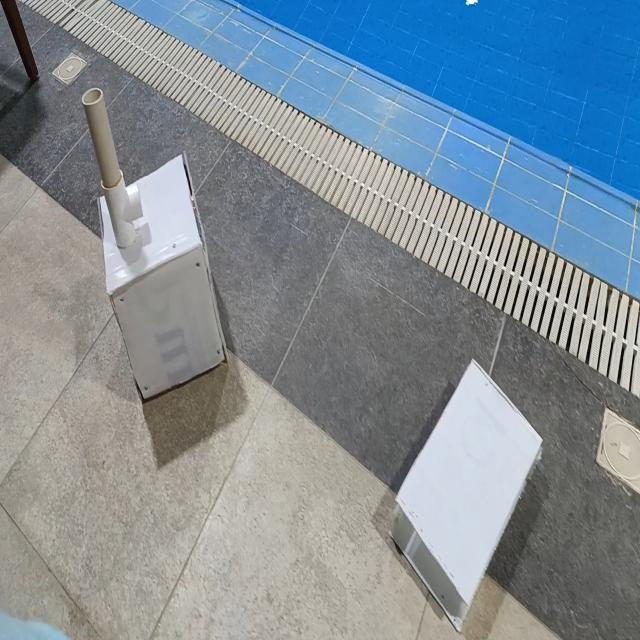Cube: (97, 150, 227, 402)
Cuboid: (388, 356, 543, 632)
